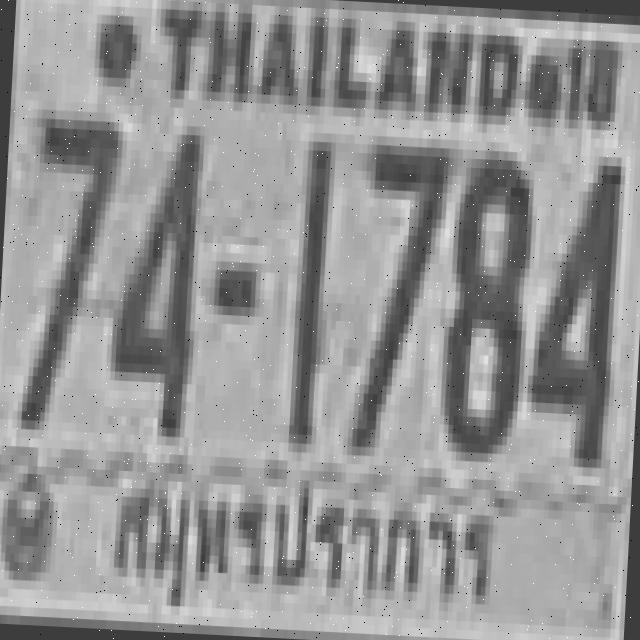1: (284, 133, 332, 444)
4: (526, 144, 626, 468), (105, 119, 208, 432)
7: (17, 105, 120, 429), (348, 136, 446, 450)
8: (438, 140, 536, 468)
SamutPrakan: (102, 448, 507, 640)
